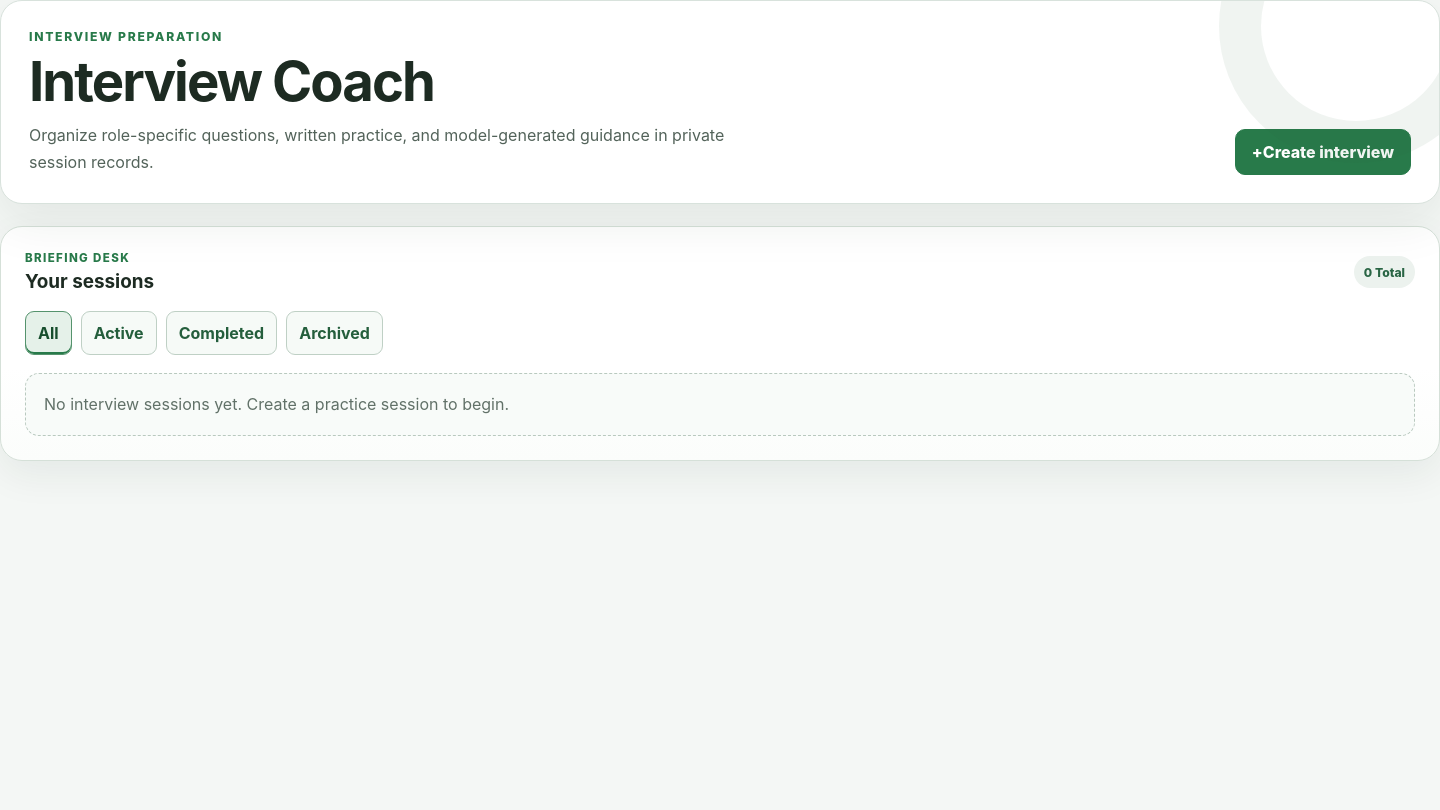
InterviewSessionListPage › uses one prominent Create interview action instead of a permanent create form
Check: the heading "Interview Coach" is shown, box x1=29 y1=48 x2=434 y2=114
Check: the text "Organize role-specific questions, written practice, and model-generated guidance in private session records." is shown, box x1=29 y1=125 x2=724 y2=172
Click the button "+ Create interview": (1323, 152) x1=1235 y1=129 x2=1411 y2=175
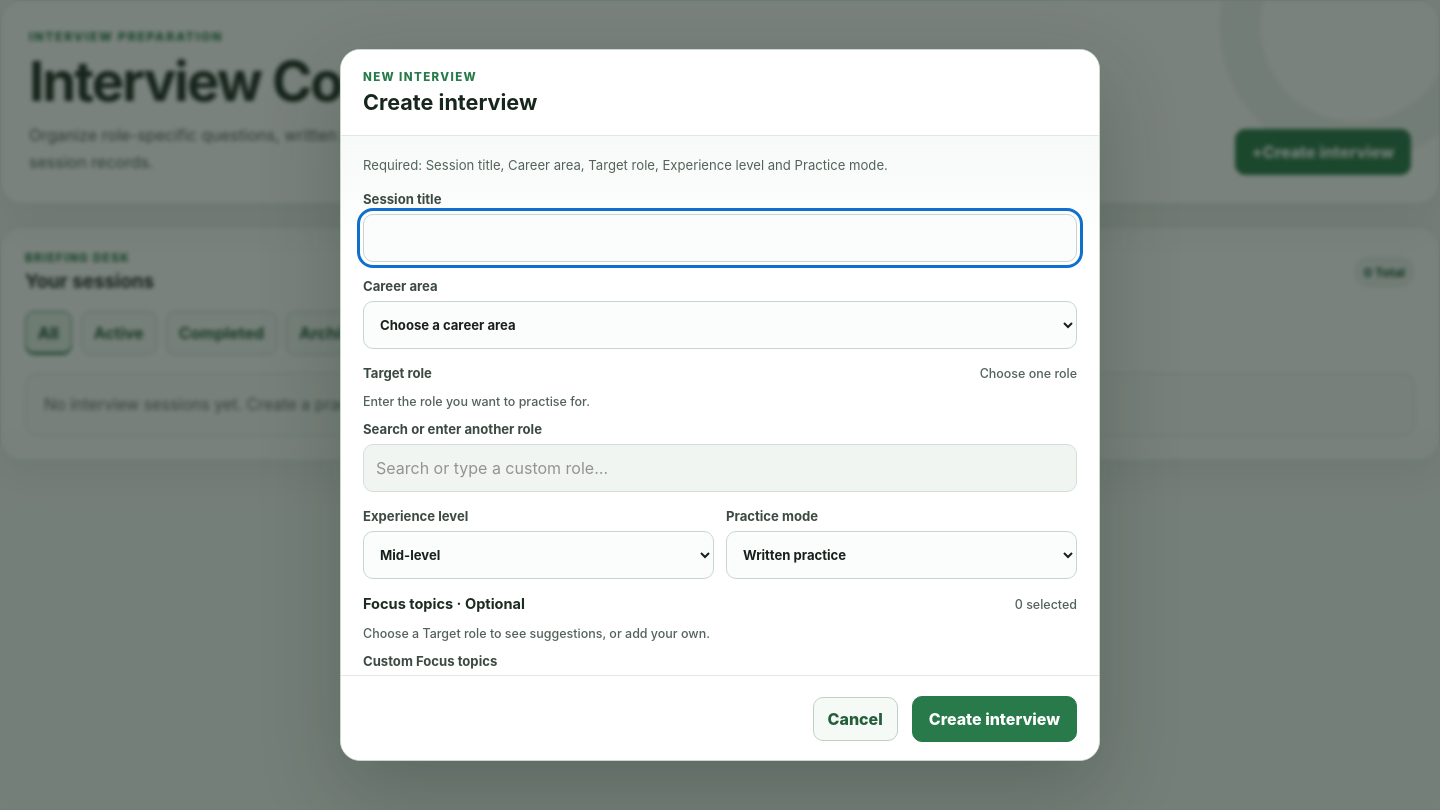
Check: the dialog "Create interview" is shown, box x1=340 y1=49 x2=1100 y2=761
